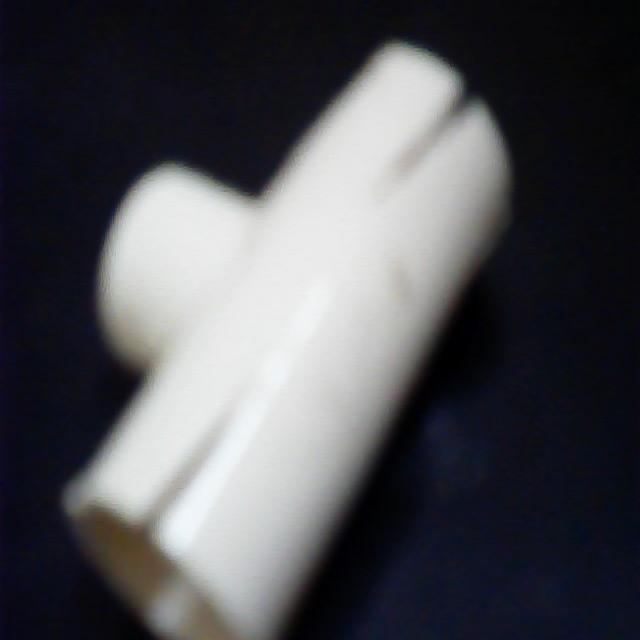Defective: (421, 58, 493, 205), (164, 376, 219, 548), (108, 455, 174, 553), (389, 117, 430, 213)
T Joint: (61, 40, 514, 640)
